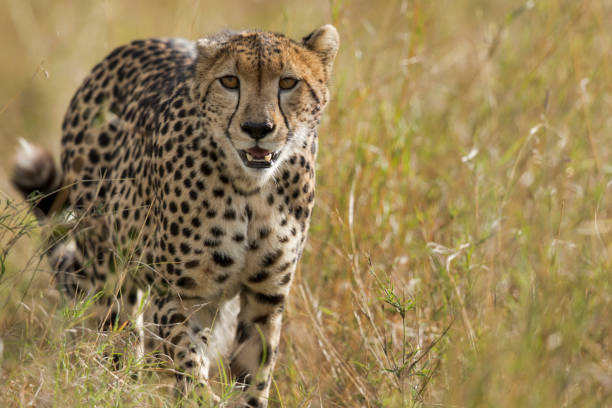cheetah: (185, 3, 354, 200)
